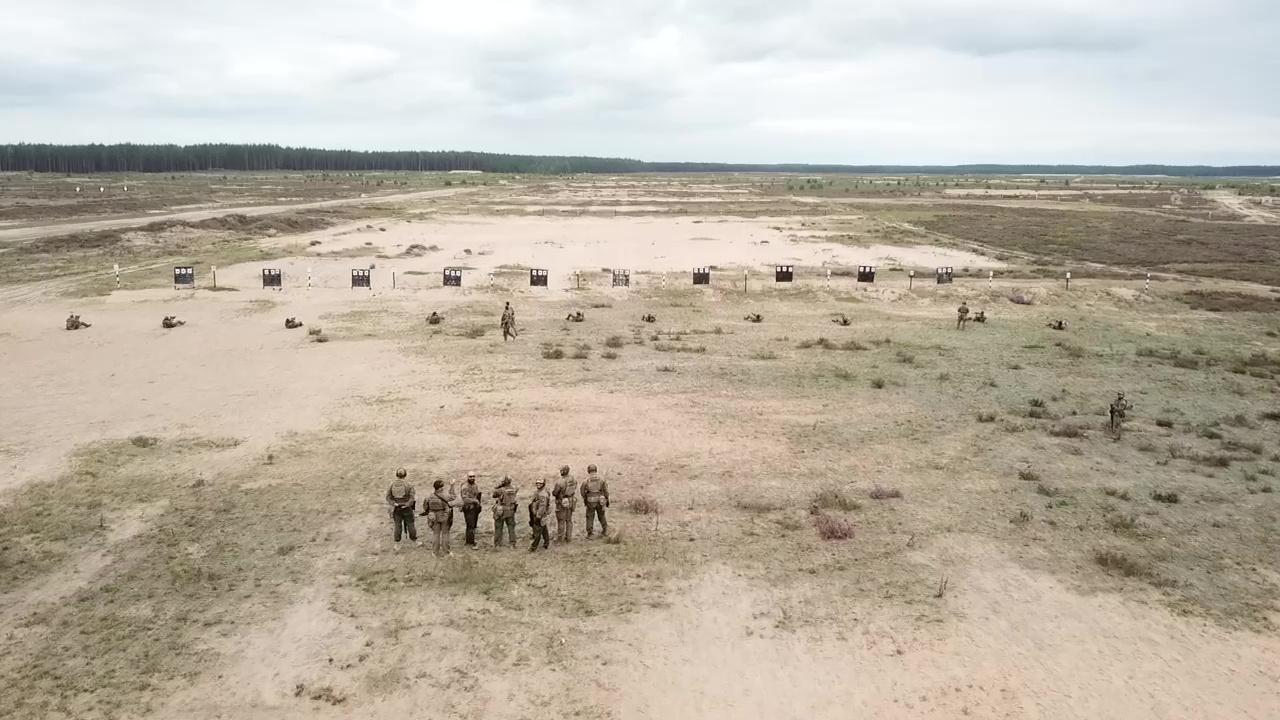Soldier: (384, 465, 422, 555), (423, 473, 460, 560), (581, 460, 615, 540), (524, 475, 554, 555), (488, 473, 518, 552), (551, 463, 578, 544), (459, 466, 482, 552), (1107, 387, 1129, 443), (498, 303, 517, 344), (63, 310, 94, 334), (158, 313, 191, 330), (954, 300, 971, 332), (741, 309, 771, 327), (283, 313, 307, 332), (971, 306, 991, 324)
